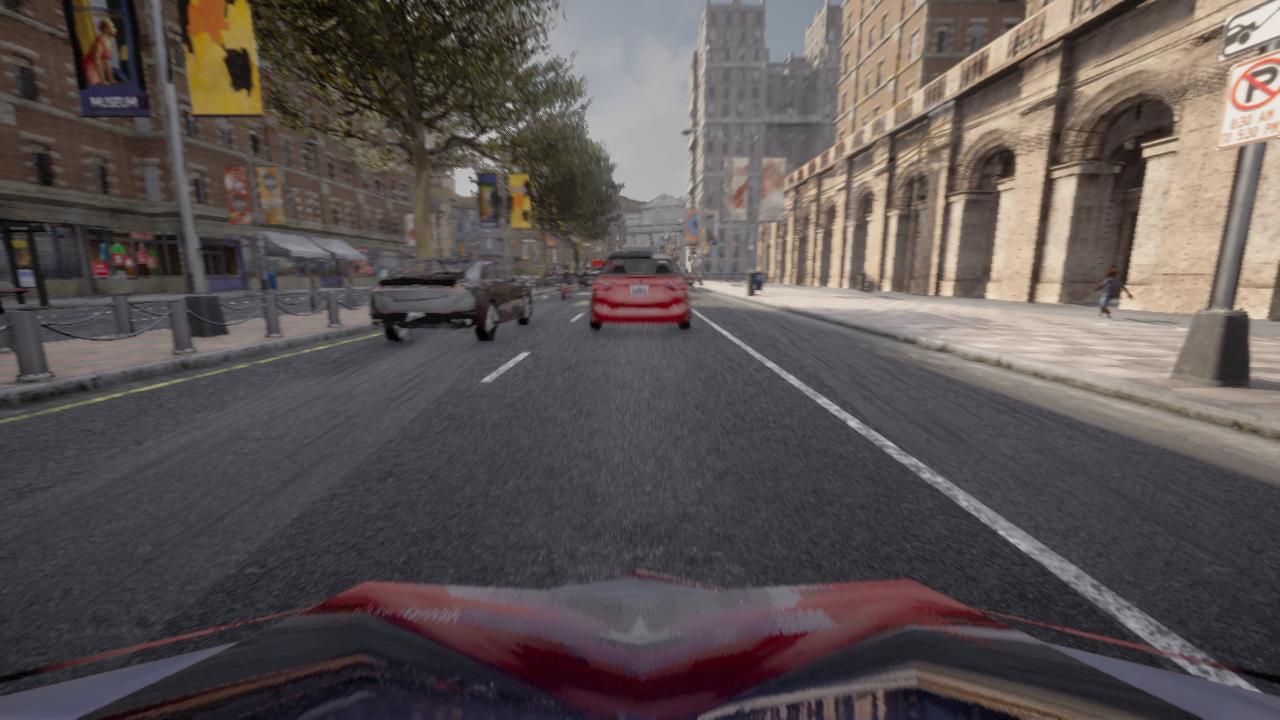cyclist: (0, 569, 1279, 719), (369, 257, 532, 341), (588, 252, 691, 329), (578, 268, 600, 289), (559, 272, 574, 299), (681, 272, 695, 288), (623, 245, 656, 251), (590, 260, 605, 267)
pedestrian: (1093, 269, 1132, 320)
